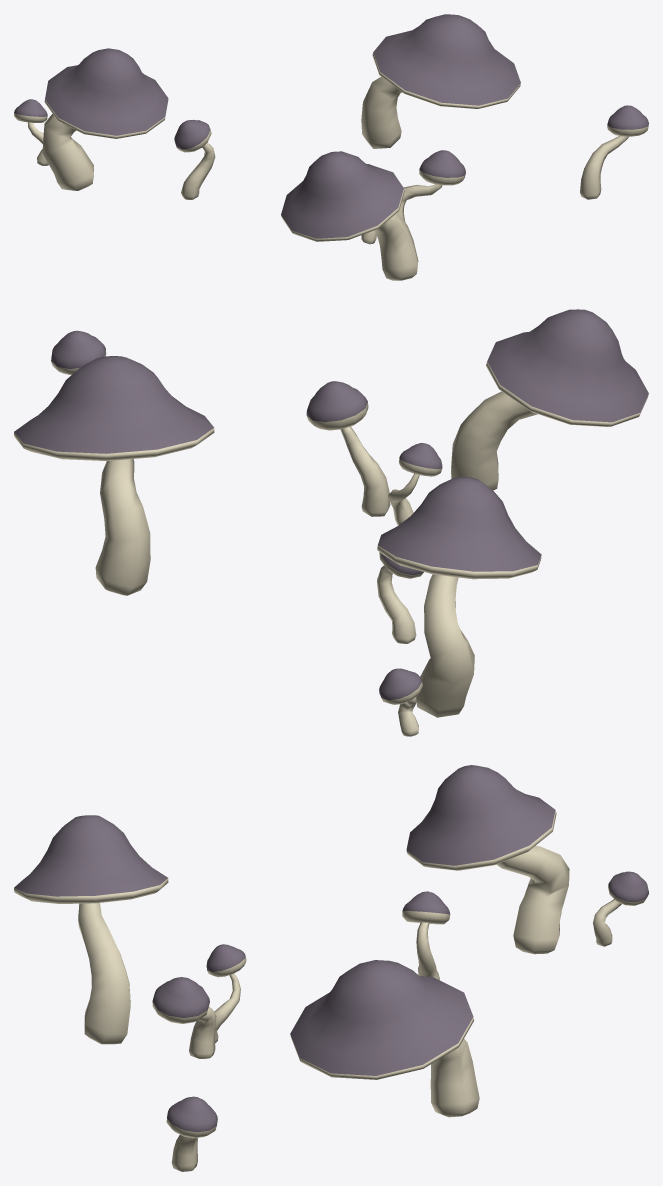
The model's file is P_mushroom_03_LD.fbx.
3 views of the same model, one above another, from view 1: azimuth 30°, elevation 25°; view 2: azimuth 150°, elevation 25°; view 3: azimuth 270°, elevation 25° (orthographic). The views are drawn at different scales.
Parts seen in each view (by area): view 1: P_mushroom_03; view 2: P_mushroom_03; view 3: P_mushroom_03.
Part boxes in pixels (x1,y1,x2,y2): P_mushroom_03: [14, 14, 648, 280]; P_mushroom_03: [14, 309, 648, 736]; P_mushroom_03: [14, 765, 648, 1171].
Size of the model in its own units: 172 by 53.22 by 162.
Materials: 1 (1 with a texture image).
